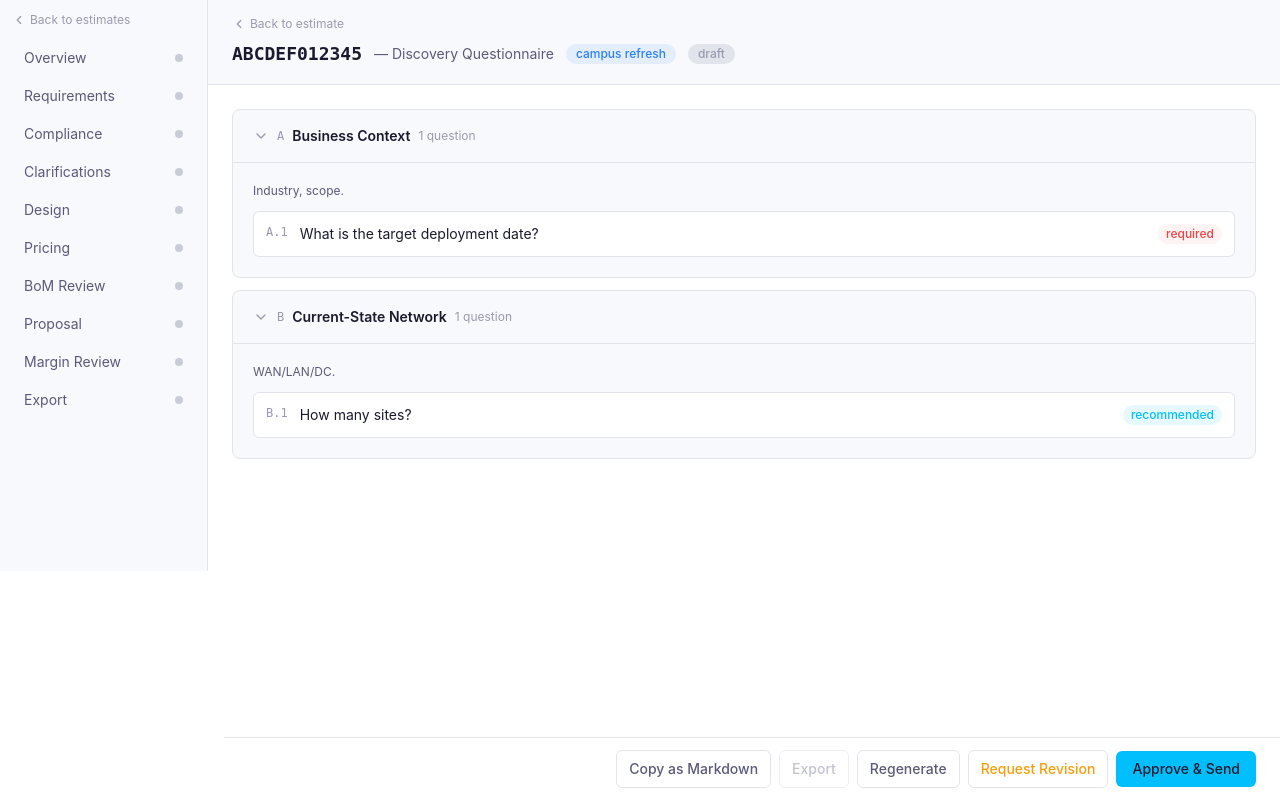
Test: QuestionnairePage › approve flow sends PATCH with status=approved
Expected: the heading "Business Context" is shown, [292, 126, 410, 146]
Click the button "Approve & Send". click: (1186, 769)
box: [1116, 751, 1256, 787]
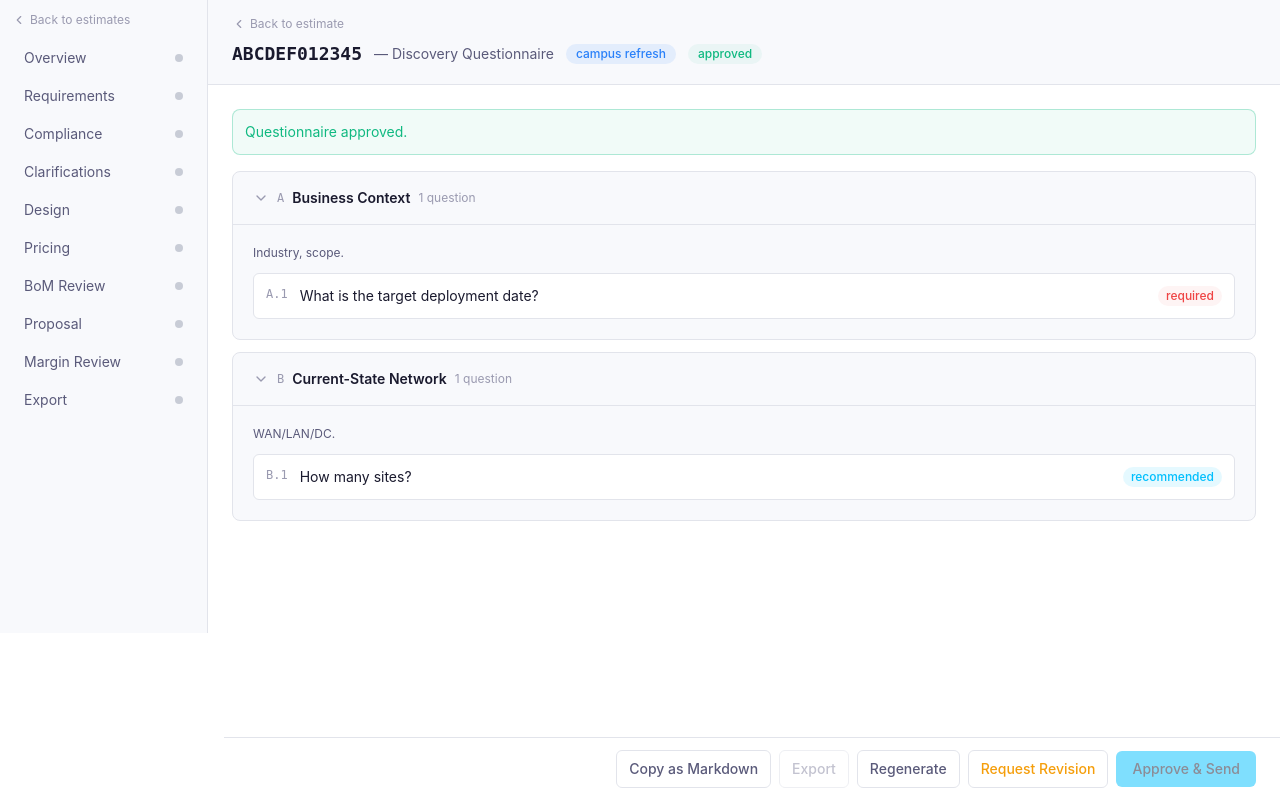
Now the text "Questionnaire approved." is shown, box [232, 109, 1256, 155]
